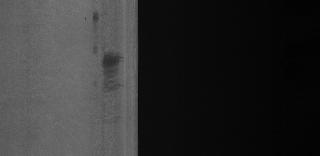oil spot: (100, 50, 128, 122), (90, 10, 100, 54)
